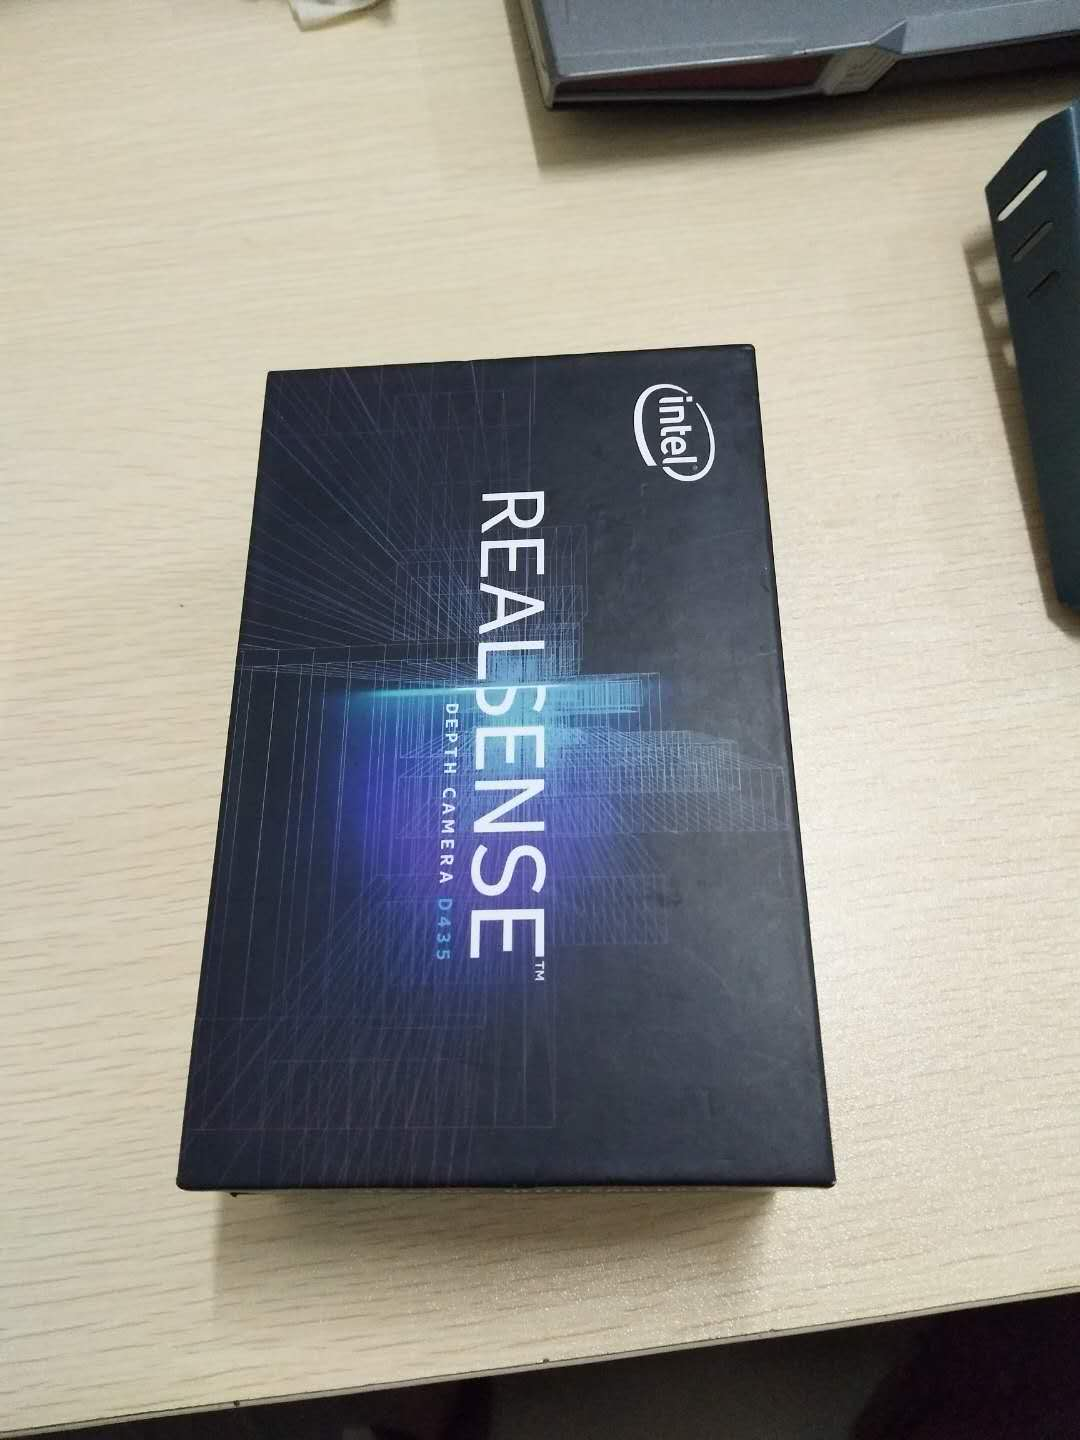box: (172, 351, 853, 1221)
